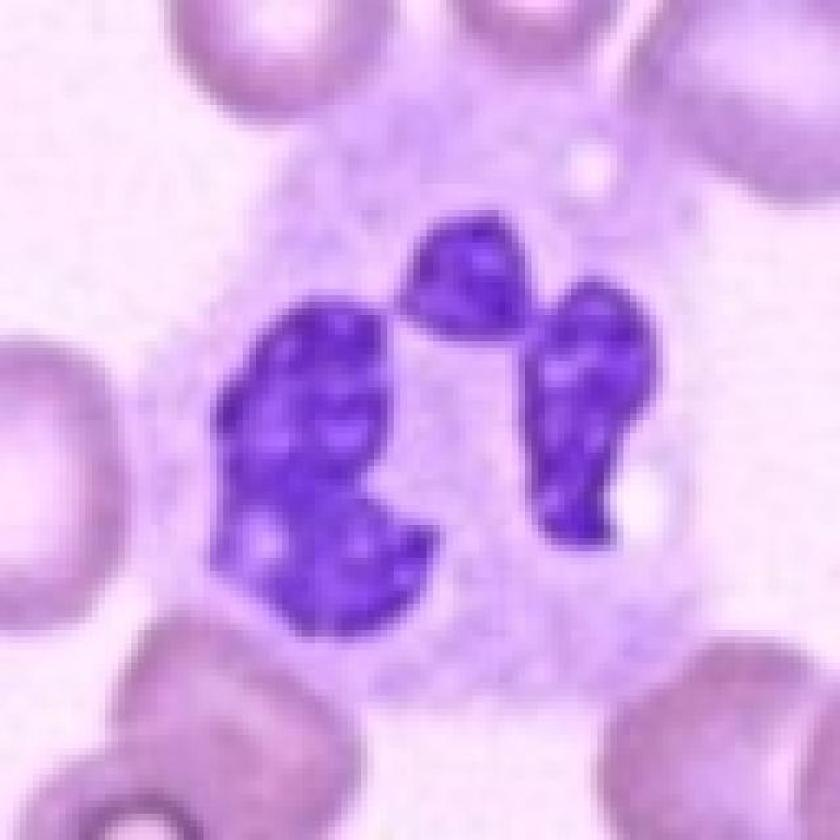neutrophil: (141, 80, 744, 715)
